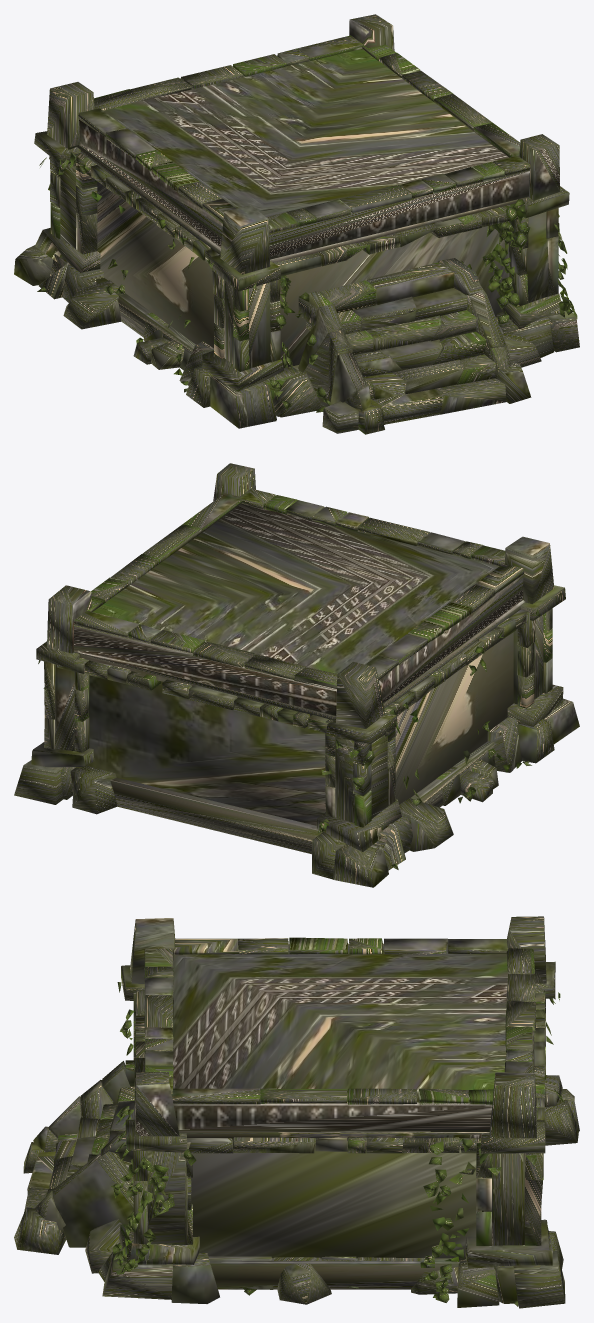
Rendered from ruin_platform.glb.
3 views of the same model, one above another, from view 1: azimuth 30°, elevation 25°; view 2: azimuth 150°, elevation 25°; view 3: azimuth 270°, elevation 25° (orthographic). The views are drawn at different scales.
Bounding box in the file's own units: 0.7959 × 0.3876 × 0.9473.
1 material, 1 textured.
